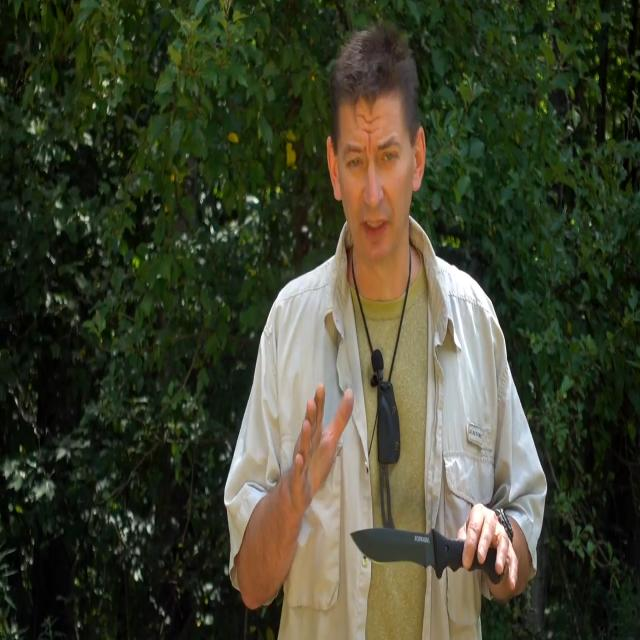knife: (350, 522, 506, 591)
